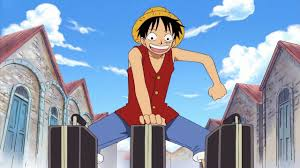Luffy: (135, 7, 182, 57)
